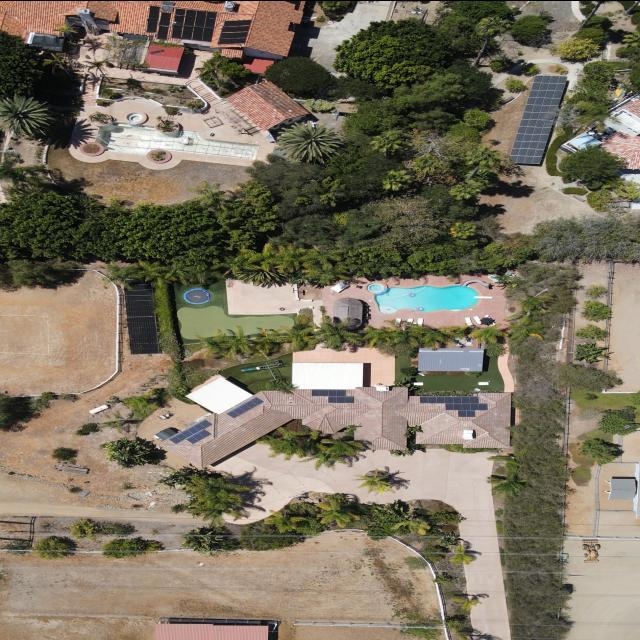solar-panels: (506, 66, 568, 172), (123, 277, 159, 355), (168, 416, 216, 453), (171, 7, 217, 42), (420, 395, 487, 416), (226, 394, 264, 419), (217, 19, 253, 44), (311, 388, 354, 402), (146, 4, 161, 33), (157, 10, 170, 39)
